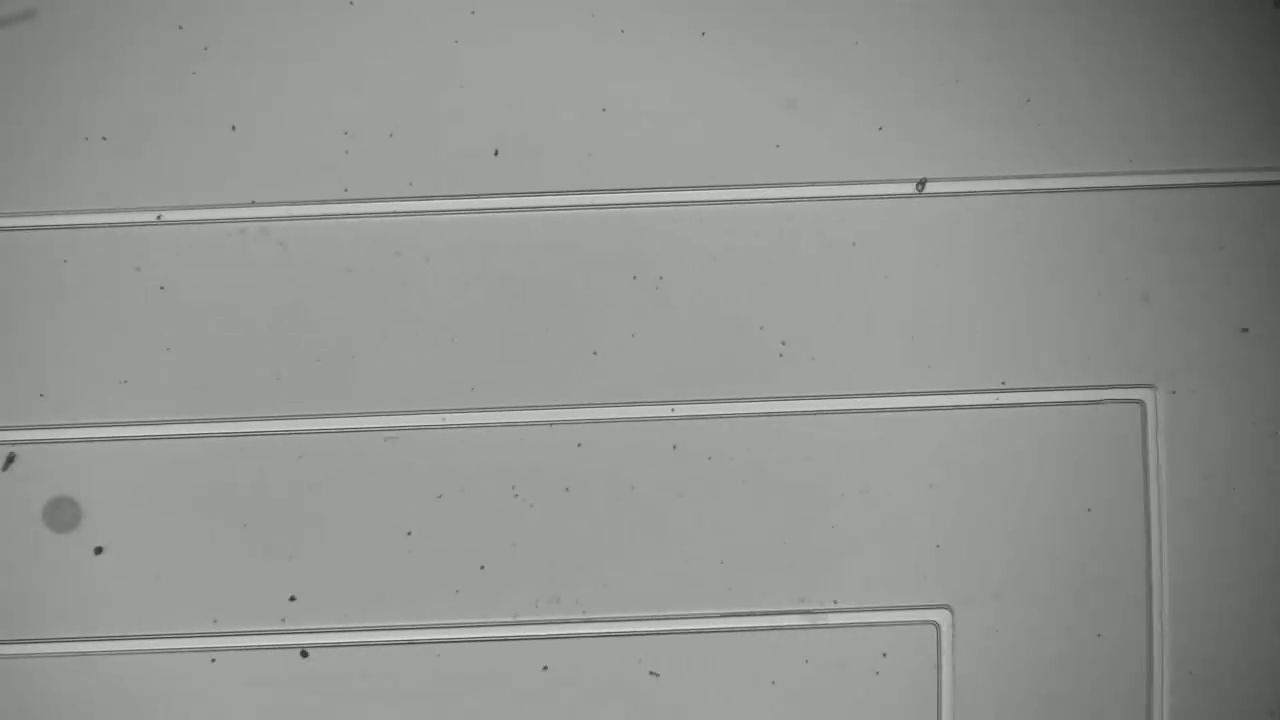stains_enbedded: (910, 170, 940, 205)
